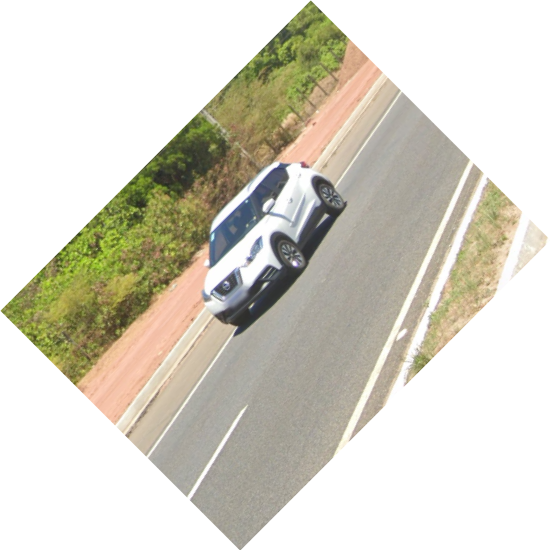car: (201, 159, 347, 327)
